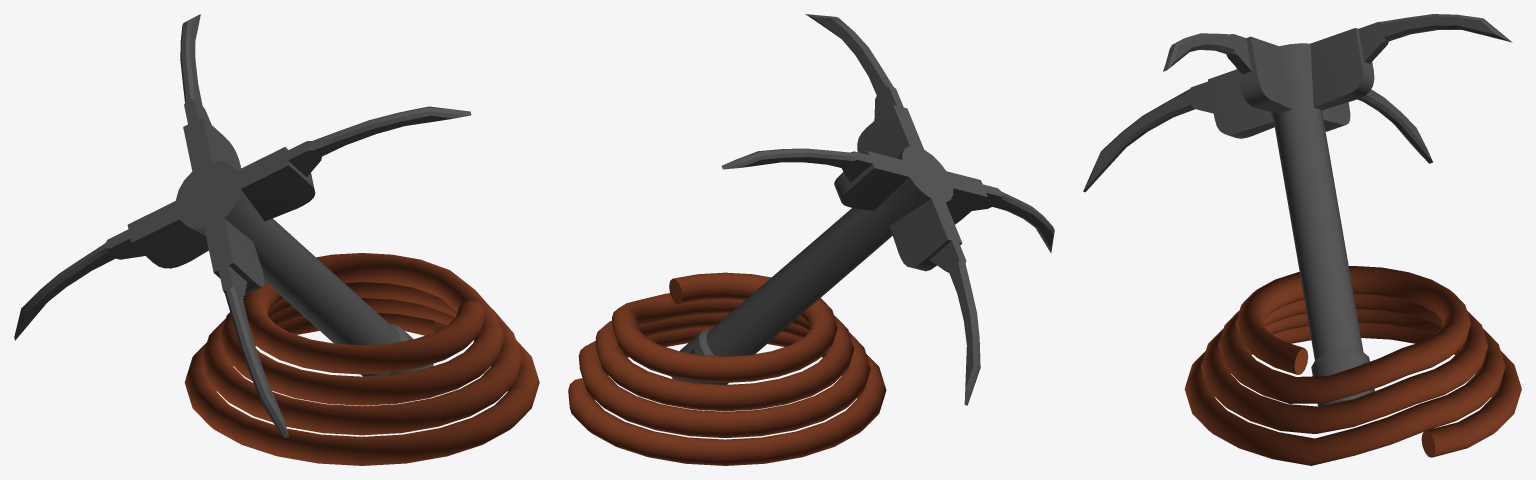
The model's file is Grappling Hook - Pickup.FBX.
3 renders of one model, left to right at view 1: azimuth 30°, elevation 25°; view 2: azimuth 150°, elevation 25°; view 3: azimuth 270°, elevation 25°, orthographic. The views are drawn at different scales.
Parts seen in each view (by area): view 1: grappling_hook_pickup; view 2: grappling_hook_pickup; view 3: grappling_hook_pickup.
Part boxes in pixels (left/top/right/bottom): grappling_hook_pickup: left=14, top=14, right=539, bottom=465; grappling_hook_pickup: left=568, top=14, right=1054, bottom=465; grappling_hook_pickup: left=1083, top=14, right=1521, bottom=465.
Size of the model in its own units: 662 by 510 by 577.
